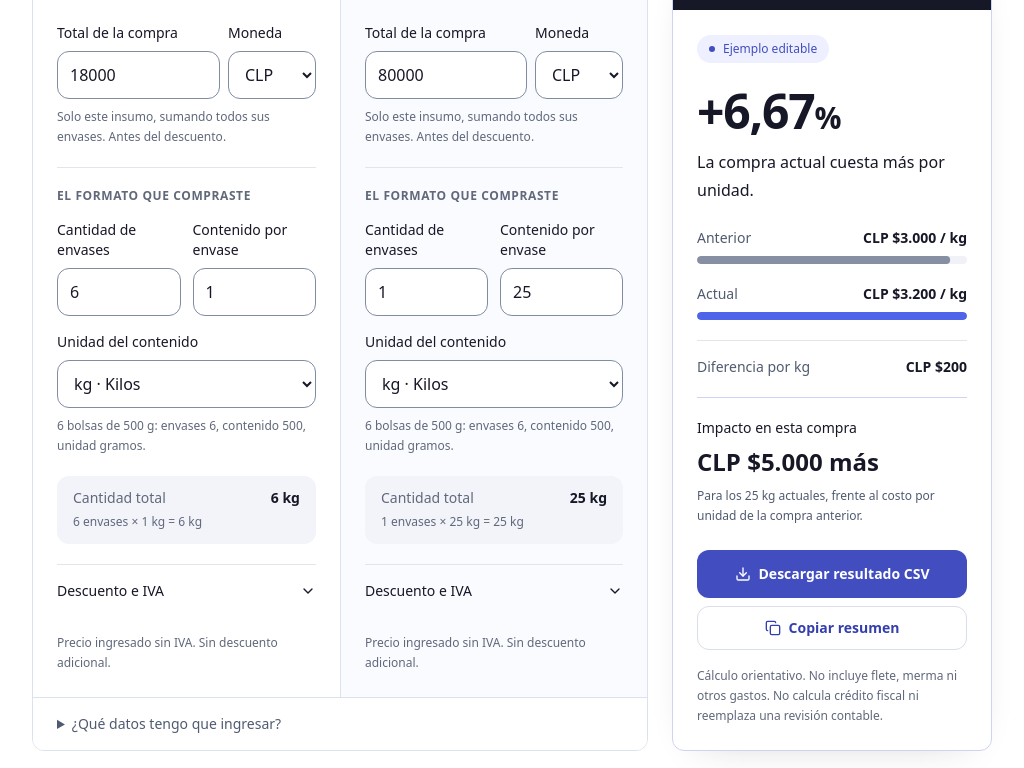
Test: calculator interaction and privacy › explains non-comparable purchases rather than showing a misleading percentage
(page scrolled)
Select "l · Litros" in the 2nd dropdown labelled "Unidad del contenido" at (494, 384), box [365,360,623,408]
(page scrolled)
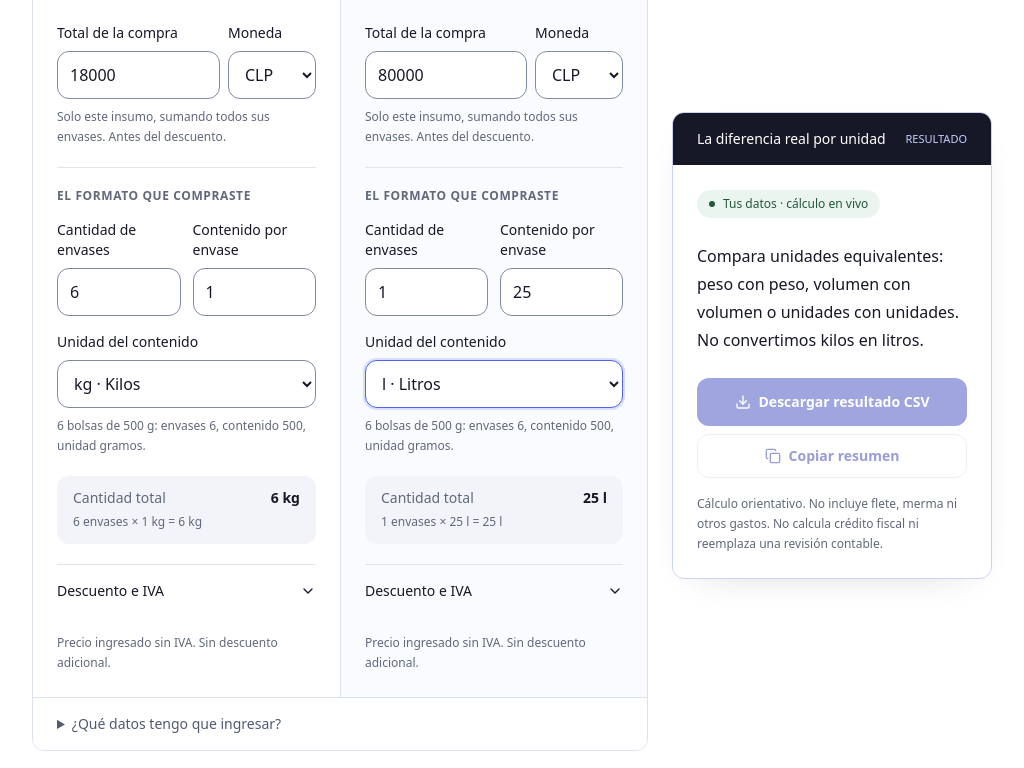
Now the element named "Resultado del cálculo" shows "No convertimos kilos en litros", box [697,245,959,351]
Select "kg · Kilos" in the 2nd dropdown labelled "Unidad del contenido" at (494, 384), box [365,360,623,408]
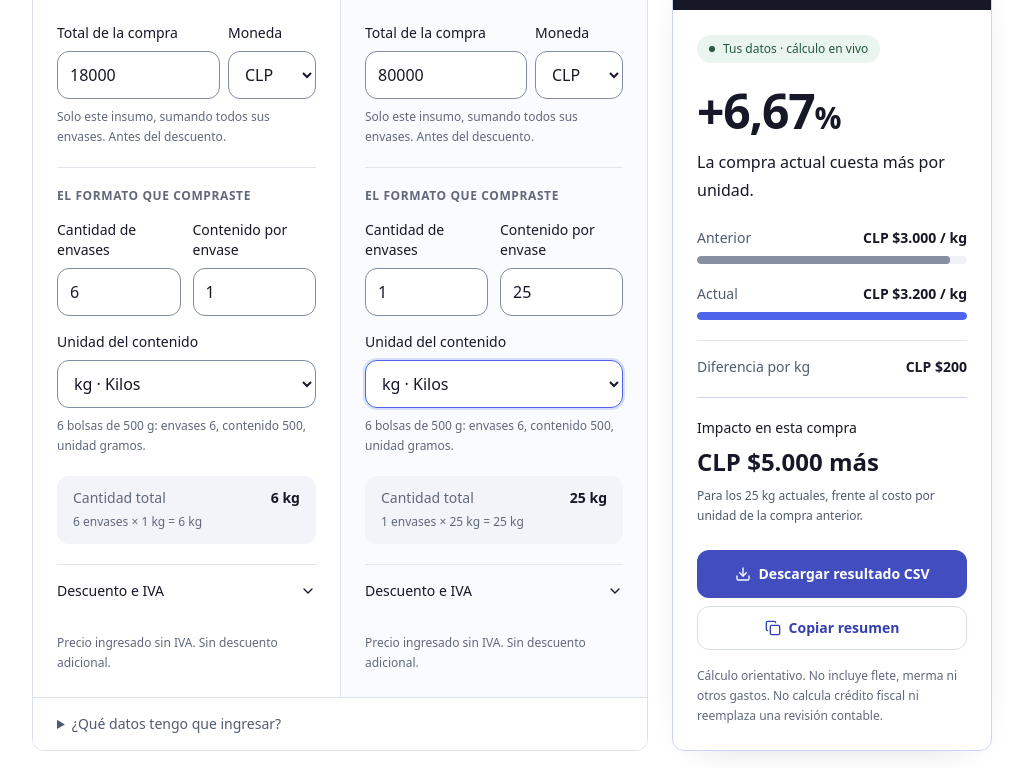
Select "USD" in the 2nd dropdown labelled "Moneda" at (579, 75), box [535,51,623,99]
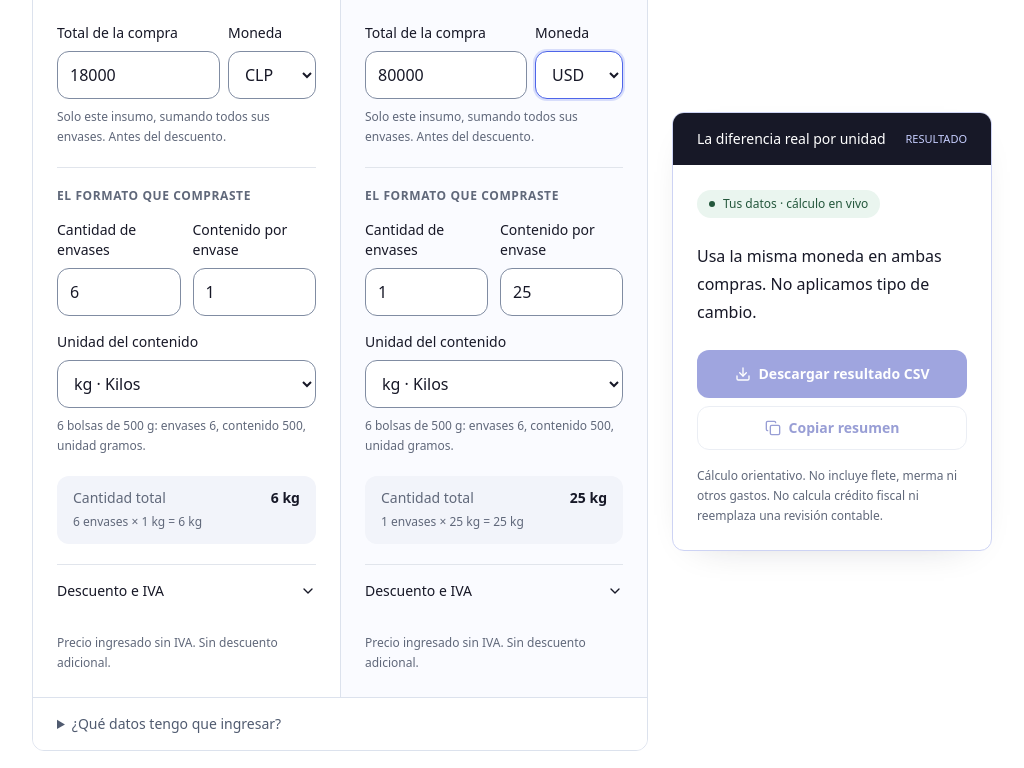
Now the element named "Resultado del cálculo" shows "misma moneda", box [697,245,942,323]
